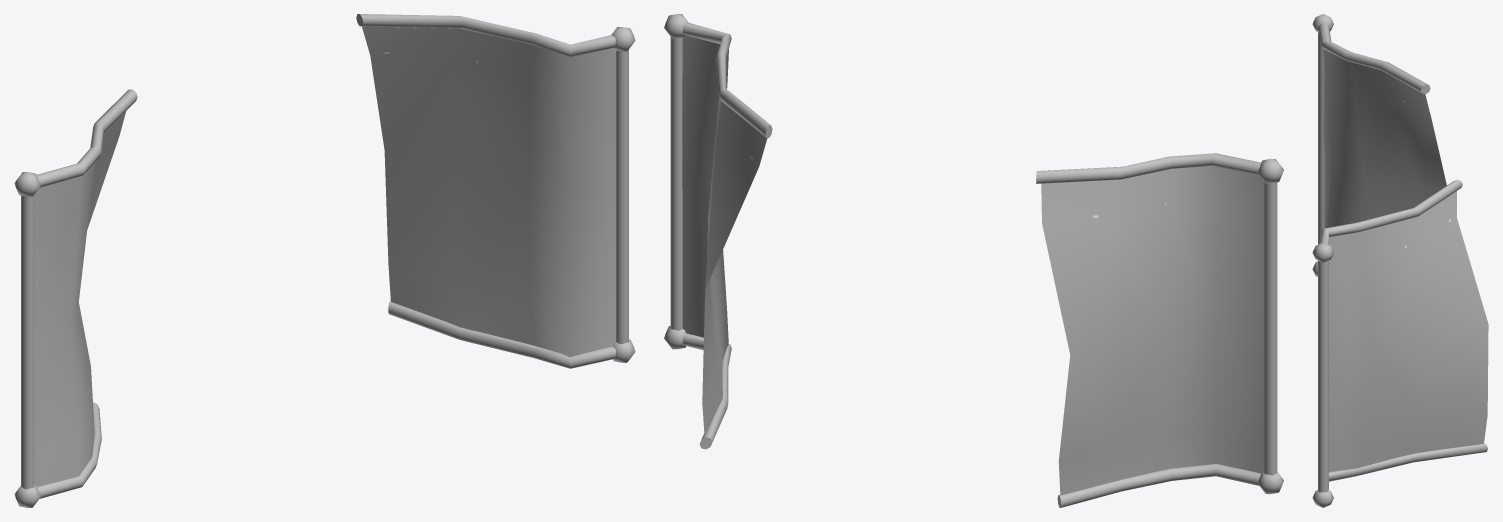
File: BustedFence.FBX
3 renders of one model, left to right at view 1: azimuth 30°, elevation 25°; view 2: azimuth 150°, elevation 25°; view 3: azimuth 270°, elevation 25°, orthographic. The views are drawn at different scales.
Visible parts, largest first — view 1: Plane001, Plane002; view 2: Plane001, Plane002; view 3: Plane001, Plane002.
Boxes of the visible parts, bbox=[...] form: Plane001: bbox=[34, 26, 616, 486]; Plane002: bbox=[14, 14, 635, 507]; Plane001: bbox=[682, 35, 1263, 495]; Plane002: bbox=[664, 14, 1283, 507]; Plane001: bbox=[1323, 49, 1488, 472]; Plane002: bbox=[1312, 14, 1487, 507].
Size of the model in its own units: 164 by 85.04 by 51.28.
Materials: 2 (2 with a texture image).
